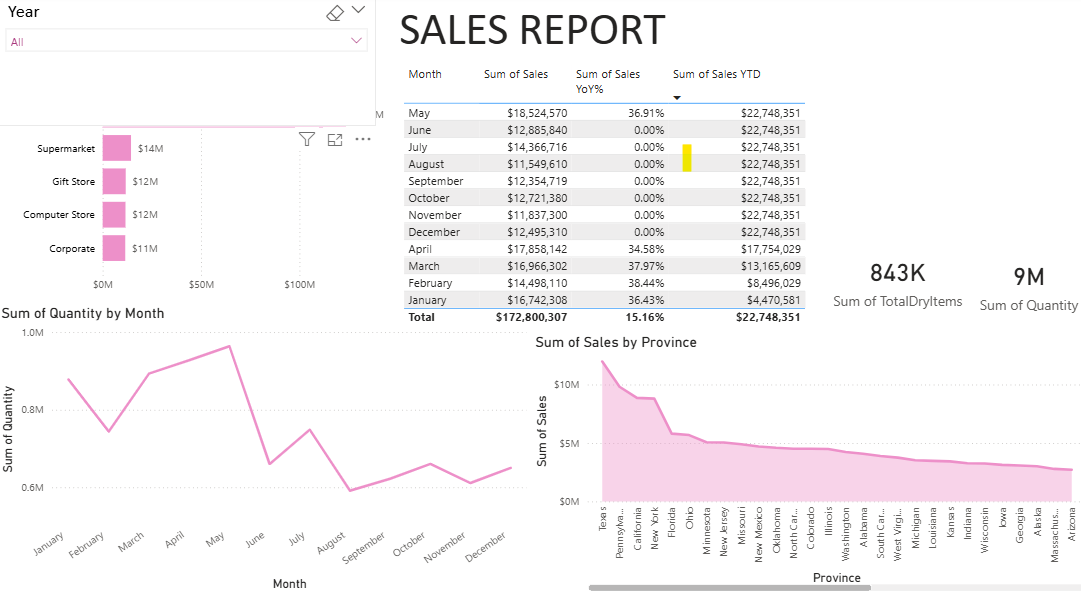

The page's visual inventory and layout, read from the dashboard file:
{"tool":"powerbi","page":{"name":"rEPORT","canvas":[1280,720],"ordinal":0},"visuals":[{"type":"clusteredBarChart","title":"Sum of Sales by CategoryName","fields":{"Category":["MasterCustomer.CustomerCategoryName"],"Y":["Sum(InvoiceData.Sales)"]},"box":[0,76.4,470.4,279.4],"z":0},{"type":"slicer","fields":{"Values":["InvoiceData.Date.Variation.Date Hierarchy.Year"]},"box":[0,0,444,152.6],"z":1},{"type":"tableEx","fields":{"Values":["InvoiceData.Date.Variation.Date Hierarchy.Month","Sum(InvoiceData.Sales)","InvoiceData.Sum of Sales YoY%","InvoiceData.Sum of Sales YTD"]},"box":[470.4,76.4,490.7,341.5],"z":2},{"type":"lineChart","fields":{"Y":["Sum(InvoiceData.Quantity)"],"Category":["InvoiceData.Date.Variation.Date Hierarchy.Month"]},"box":[0,360.5,625.5,341.2],"z":3},{"type":"textbox","box":[465.7,0,359.4,76.4],"z":4},{"type":"card","fields":{"Values":["Sum(InvoiceData.Quantity)"]},"box":[1137.2,279.5,142.8,114.9],"z":5},{"type":"areaChart","fields":{"Y":["Sum(InvoiceData.Sales)"],"Category":["MasterCustomer.Province"]},"box":[625.5,394.4,654.5,307.3],"z":6},{"type":"card","fields":{"Values":["Sum(InvoiceData.TotalDryItems)"]},"box":[971.5,271,165.7,123.4],"z":7}]}

Visuals, with their boxes in screenshot pixels (x1, y1, x2, y2), scaled from the page's 1280x720 canvas onto the 1081x610 screenshot:
"Sum of Sales by CategoryName" clusteredBarChart: bbox=[0, 65, 397, 301]
slicer - InvoiceData.Date.Variation.Date Hierarchy.Year: bbox=[0, 0, 375, 129]
tableEx - InvoiceData.Date.Variation.Date Hierarchy.Month x Sum(InvoiceData.Sales): bbox=[397, 65, 812, 354]
lineChart - Sum(InvoiceData.Quantity) x InvoiceData.Date.Variation.Date Hierarchy.Month: bbox=[0, 305, 528, 594]
textbox: bbox=[393, 0, 697, 65]
card - Sum(InvoiceData.Quantity): bbox=[960, 237, 1080, 334]
areaChart - Sum(InvoiceData.Sales) x MasterCustomer.Province: bbox=[528, 334, 1080, 594]
card - Sum(InvoiceData.TotalDryItems): bbox=[820, 230, 960, 334]
